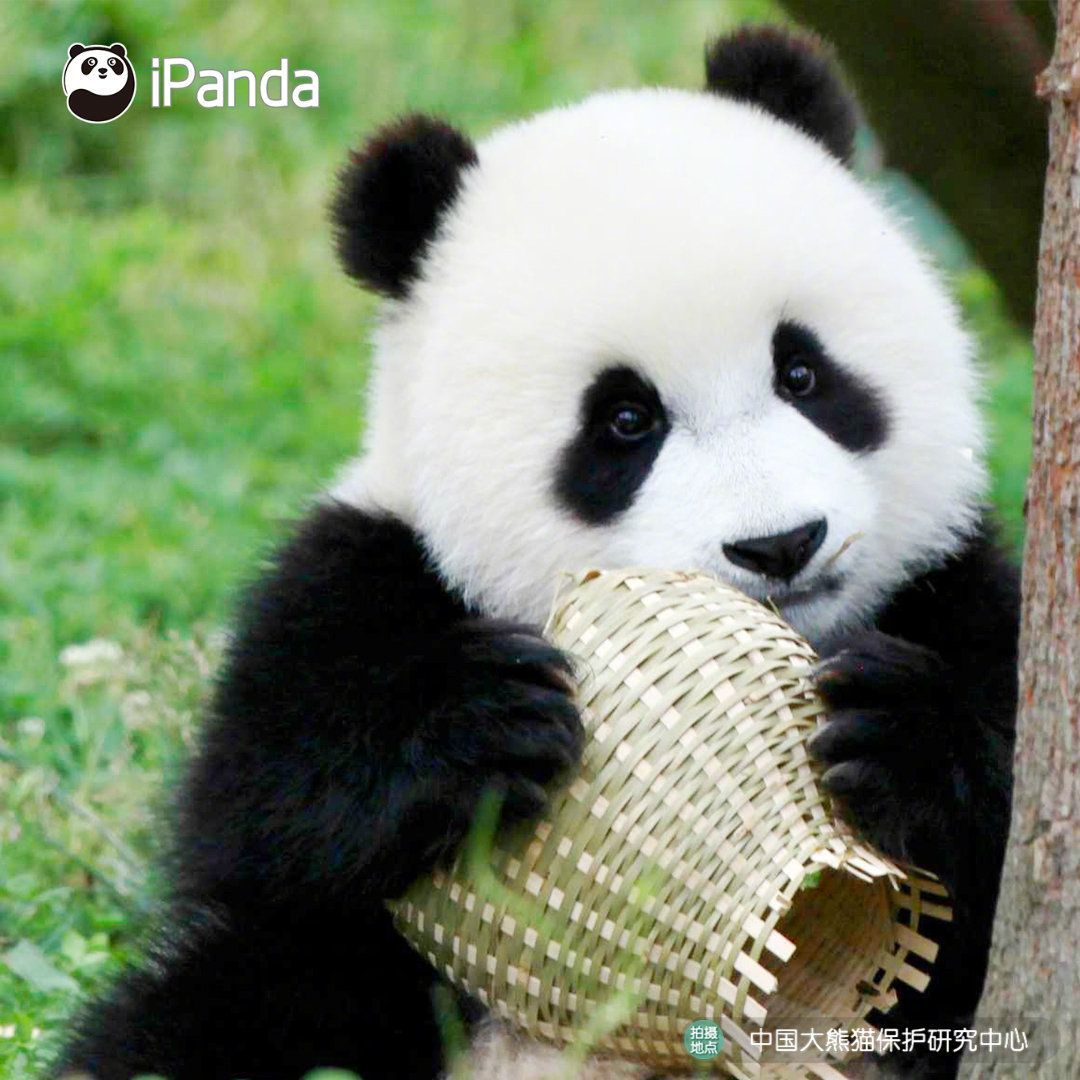panda: (253, 27, 1013, 1009)
